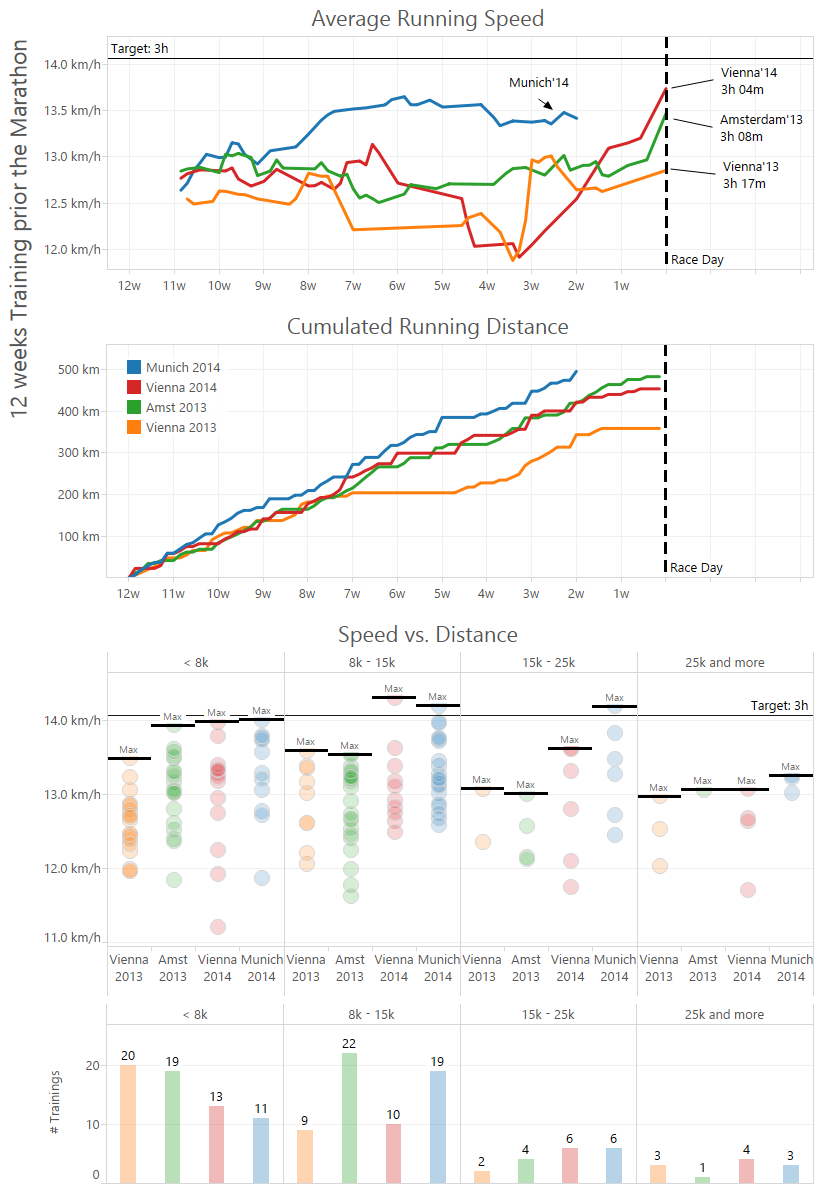

The dashboard page shown, as its layout file describes it:
{"tool":"tableau","page":{"name":"run","canvas":[830,1200],"ordinal":0},"visuals":[{"type":"text","box":[0,0,46,1200]},{"type":"worksheet","title":"speed","mark":"Line","rows":["speed_ma7"],"cols":["Calculation_4220929092416491"],"box":[46,0,780,312]},{"type":"worksheet","title":"dist","mark":"Line","rows":["distance"],"cols":["Calculation_4220929092416491"],"box":[46,312,780,308]},{"type":"legend","title":"dist","param":"[textscan.41910.713831770830].[none:preparation:nk]","box":[132,365,105,85]},{"type":"worksheet","title":"d vs p","mark":"Circle","rows":["speed"],"cols":["Calculation_2350924091107614","preparation"],"box":[46,620,780,388]},{"type":"worksheet","title":"Sheet 6","mark":"Bar","rows":["Number of Records"],"cols":["Calculation_2350924091107614","preparation"],"box":[46,1008,780,188]}]}

Visuals, with their boxes in screenshot pixels (x1, y1, x2, y2), scaled from the page's 830x1200 canvas onto the 814x1184 screenshot:
text: (0, 0, 45, 1183)
"speed" worksheet (Line marks): (45, 0, 810, 308)
"dist" worksheet (Line marks): (45, 308, 810, 612)
"dist" legend: (129, 360, 232, 444)
"d vs p" worksheet (Circle marks): (45, 612, 810, 995)
"Sheet 6" worksheet (Bar marks): (45, 995, 810, 1180)
